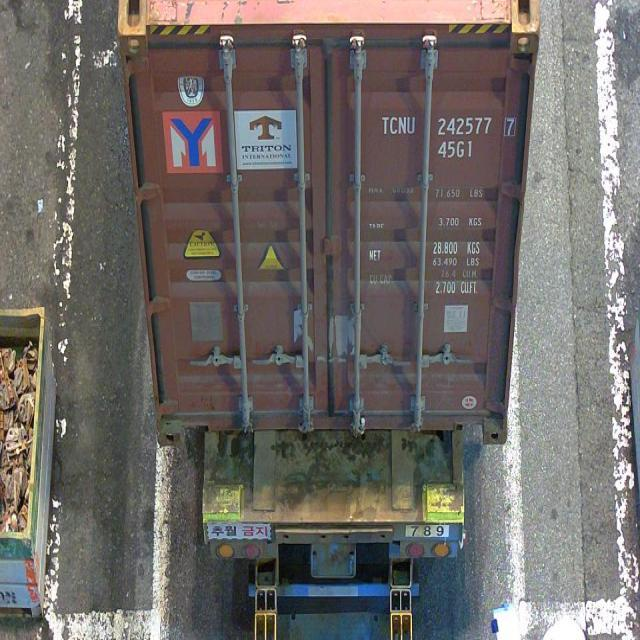ISO: (437, 138, 475, 158)
container_number: (381, 108, 517, 139)
